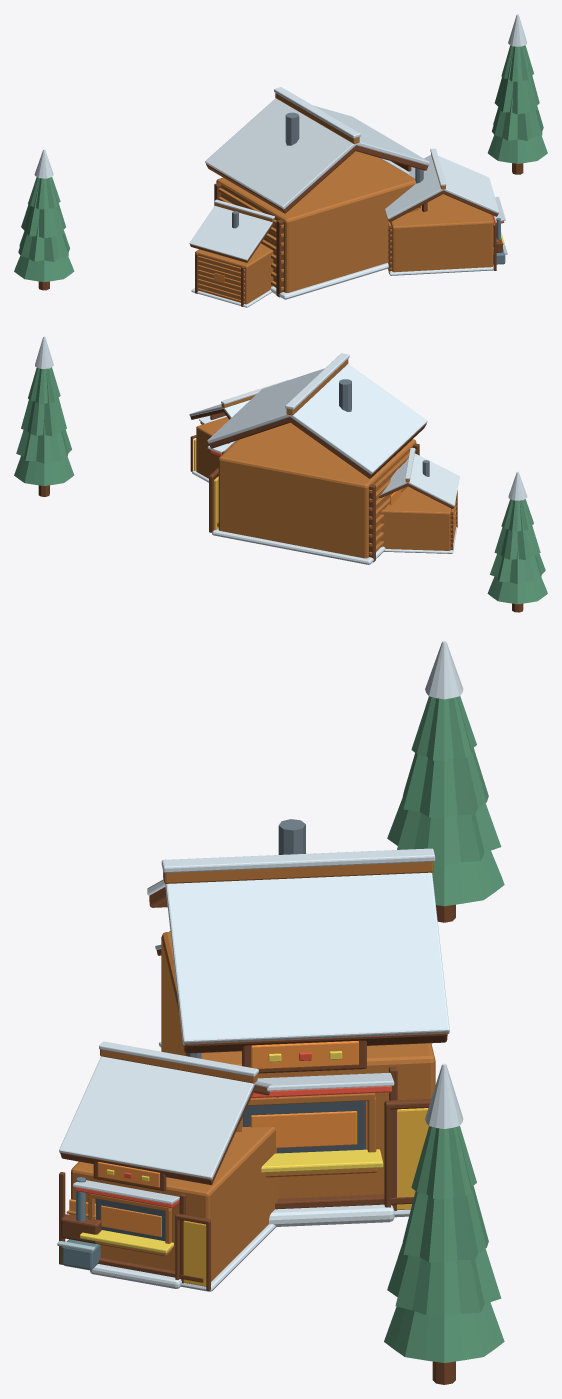
Rendered from camp-village.glb.
3 renders of one model, top to bottom at view 1: azimuth 30°, elevation 25°; view 2: azimuth 150°, elevation 25°; view 3: azimuth 270°, elevation 25°, orthographic. The views are drawn at different scales.
Visible parts, largest first — view 1: CampVillageMerged; view 2: CampVillageMerged; view 3: CampVillageMerged.
Boxes of the visible parts, x1=… form: CampVillageMerged: x1=14, y1=14, x2=547, y2=307; CampVillageMerged: x1=14, y1=336, x2=547, y2=612; CampVillageMerged: x1=57, y1=641, x2=504, y2=1384.
Bounding box in the file's own units: 26.62 × 7.64 × 9.82.
